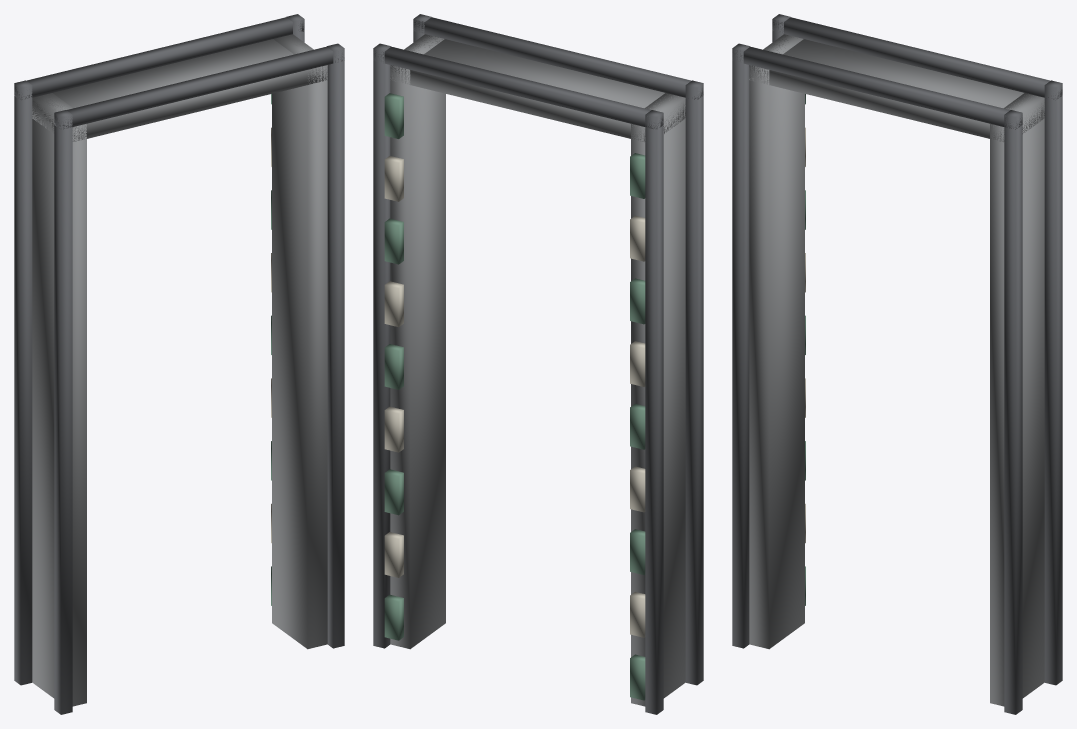
File: doorway_tile_return_w86_h210_d24.glb
The picture shows the model from 3 angles, left to right: view 1: azimuth 30°, elevation 25°; view 2: azimuth 150°, elevation 25°; view 3: azimuth 330°, elevation 25°; orthographic projection.
Visible parts, largest first — view 1: world; view 2: world; view 3: world.
Part boxes in pixels (left/top/right/bottom): world: left=14, top=14, right=344, bottom=714; world: left=373, top=14, right=703, bottom=714; world: left=732, top=14, right=1062, bottom=714.
Size of the model in its own units: 1.1 by 2.22 by 0.3207.
